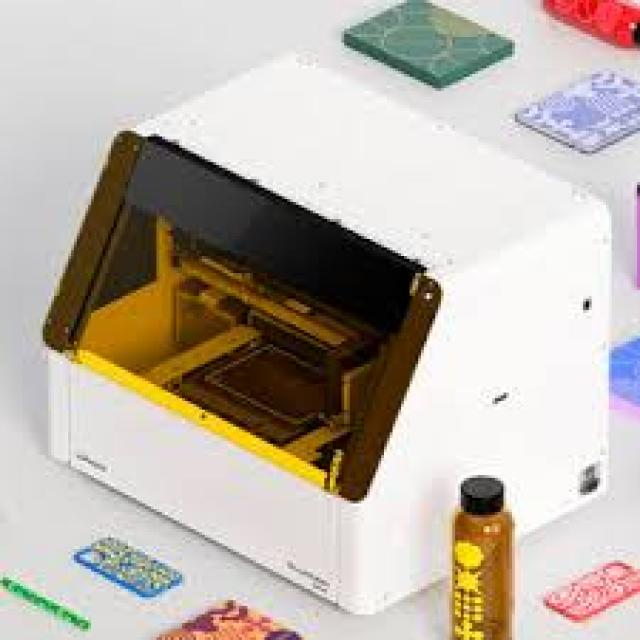printer: (37, 46, 626, 614)
